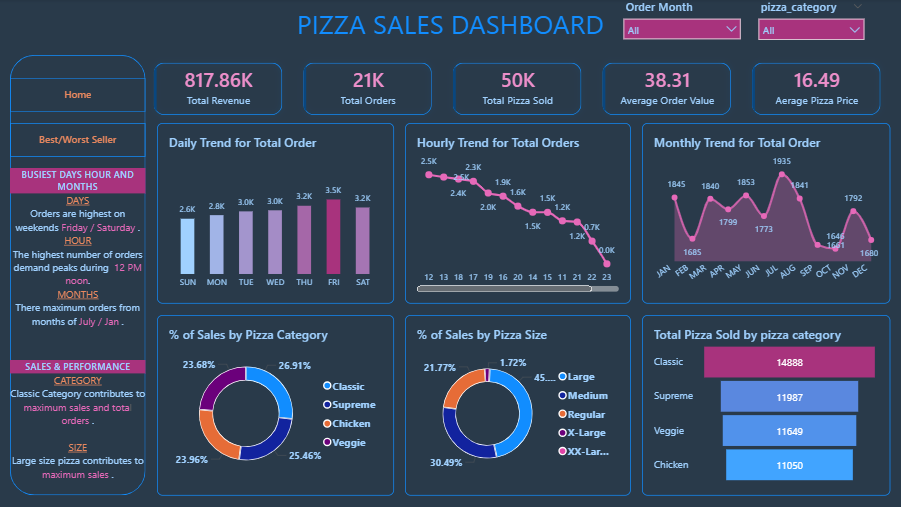

This screenshot's page, from the dashboard's own definition file:
{"tool":"powerbi","page":{"name":"Home","canvas":[1280,720],"ordinal":0},"visuals":[{"type":"cardVisual","fields":{"Data":["Measure Table.Total Revenue","Measure Table.Total Orders","Measure Table.Total Pizza Sold","Measure Table.Average Order Value","Measure Table.Aerage Pizza Price"]},"box":[208,80,1056,96],"z":0},{"type":"textbox","box":[96,448,32,96],"z":1000},{"type":"textbox","box":[0,0,1280,80],"z":2000},{"type":"clusteredColumnChart","title":"Daily Trend for Total Order","fields":{"Category":["pizza_sales.Order Day"],"Y":["Measure Table.Total Orders"]},"box":[224,176,336,256],"z":3000},{"type":"areaChart","title":"Monthly Trend for Total Order","fields":{"Category":["pizza_sales.Order Month"],"Y":["Measure Table.Total Orders"]},"box":[912,176,352,256],"z":4000},{"type":"donutChart","title":"% of Sales by Pizza Category","fields":{"Category":["pizza_sales.pizza_category"],"Y":["Measure Table.Total Revenue"]},"box":[224,448,336,256],"z":5000},{"type":"donutChart","title":"% of Sales by Pizza Size","fields":{"Category":["pizza_sales.pizza_size"],"Y":["Measure Table.Total Revenue"]},"box":[576,448,320,256],"z":6000},{"type":"funnel","title":"Total Pizza Sold by pizza category","fields":{"Category":["pizza_sales.pizza_category"],"Y":["Measure Table.Total Pizza Sold"]},"box":[912,448,352,256],"z":7000},{"type":"slicer","fields":{"Values":["pizza_sales.pizza_category"]},"box":[1072,0,160,64],"z":8000},{"type":"slicer","fields":{"Values":["pizza_sales.Order Month"]},"box":[880,0,176,64],"z":9000},{"type":"shape","box":[16,80,192,624],"z":10000},{"type":"textbox","title":"BUSIEST DAYS HOUR AND MONTHS","box":[16,240,192,256],"z":11000},{"type":"textbox","title":"SALES & PERFORMANCE","box":[16,512,192,192],"z":12000},{"type":"pageNavigator","box":[16,112,192,48],"z":13000},{"type":"pageNavigator","box":[16,176,192,48],"z":14000},{"type":"lineChart","title":"Hourly Trend for Total Orders","fields":{"Category":["pizza_sales.Order Hour"],"Y":["Measure Table.Total Orders"]},"box":[576,176,320,256],"z":15000}]}

Visuals, with their boxes in screenshot pixels (x1, y1, x2, y2), scaled from the page's 1280x720 canvas onto the 901x507 screenshot:
cardVisual - Measure Table.Total Revenue x Measure Table.Total Orders: locate(146, 56, 890, 124)
textbox: locate(68, 315, 90, 383)
textbox: locate(0, 0, 900, 56)
"Daily Trend for Total Order" clusteredColumnChart: locate(158, 124, 394, 304)
"Monthly Trend for Total Order" areaChart: locate(642, 124, 890, 304)
"% of Sales by Pizza Category" donutChart: locate(158, 315, 394, 496)
"% of Sales by Pizza Size" donutChart: locate(405, 315, 631, 496)
"Total Pizza Sold by pizza category" funnel: locate(642, 315, 890, 496)
slicer - pizza_sales.pizza_category: locate(755, 0, 867, 45)
slicer - pizza_sales.Order Month: locate(619, 0, 743, 45)
shape: locate(11, 56, 146, 496)
"BUSIEST DAYS HOUR AND MONTHS" textbox: locate(11, 169, 146, 349)
"SALES & PERFORMANCE" textbox: locate(11, 361, 146, 496)
pageNavigator: locate(11, 79, 146, 113)
pageNavigator: locate(11, 124, 146, 158)
"Hourly Trend for Total Orders" lineChart: locate(405, 124, 631, 304)
